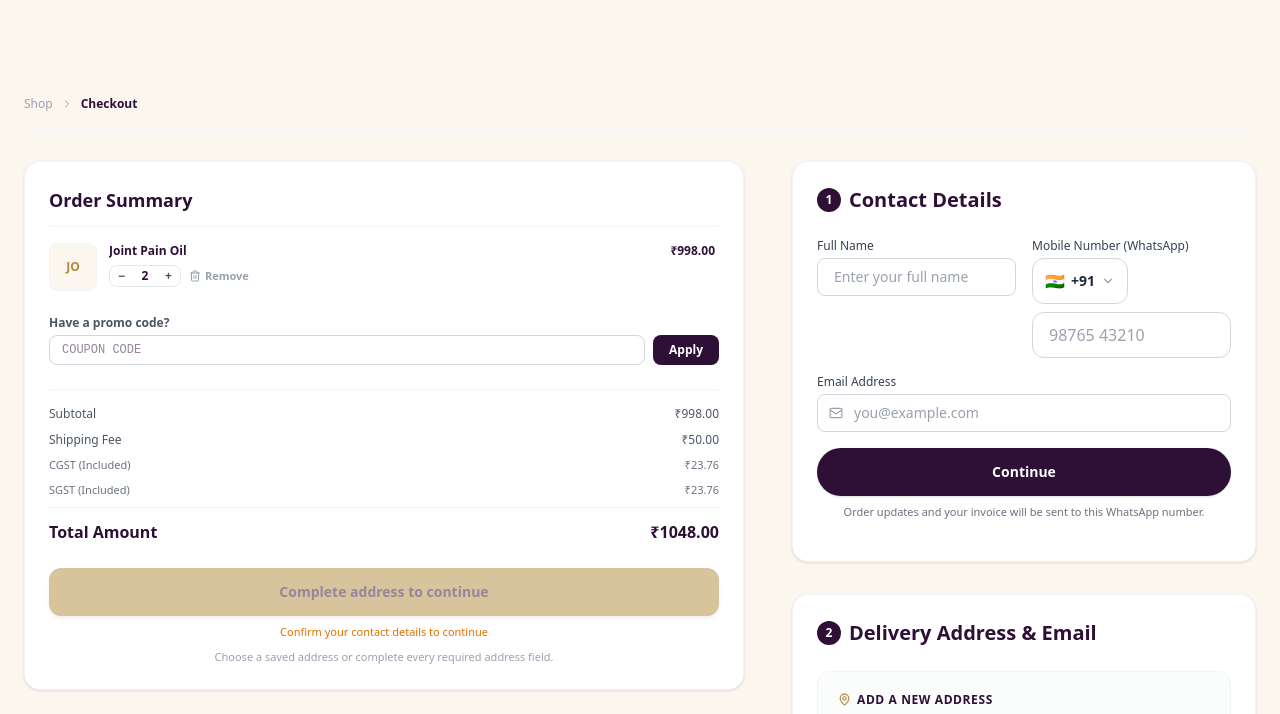
Test: checkout — contact step verifies the number with a WhatsApp OTP › shows the friendly connect message on a transport failure (no response)
This screenshot has width=1280, height=714.
Expected: the button "Continue" is shown, [817,448,1231,496]
Type "Atharva Bhargava" into the field with placeholder "Enter your full name".
click(916, 277); type("Atharva Bhargava")  # box [817,258,1016,296]
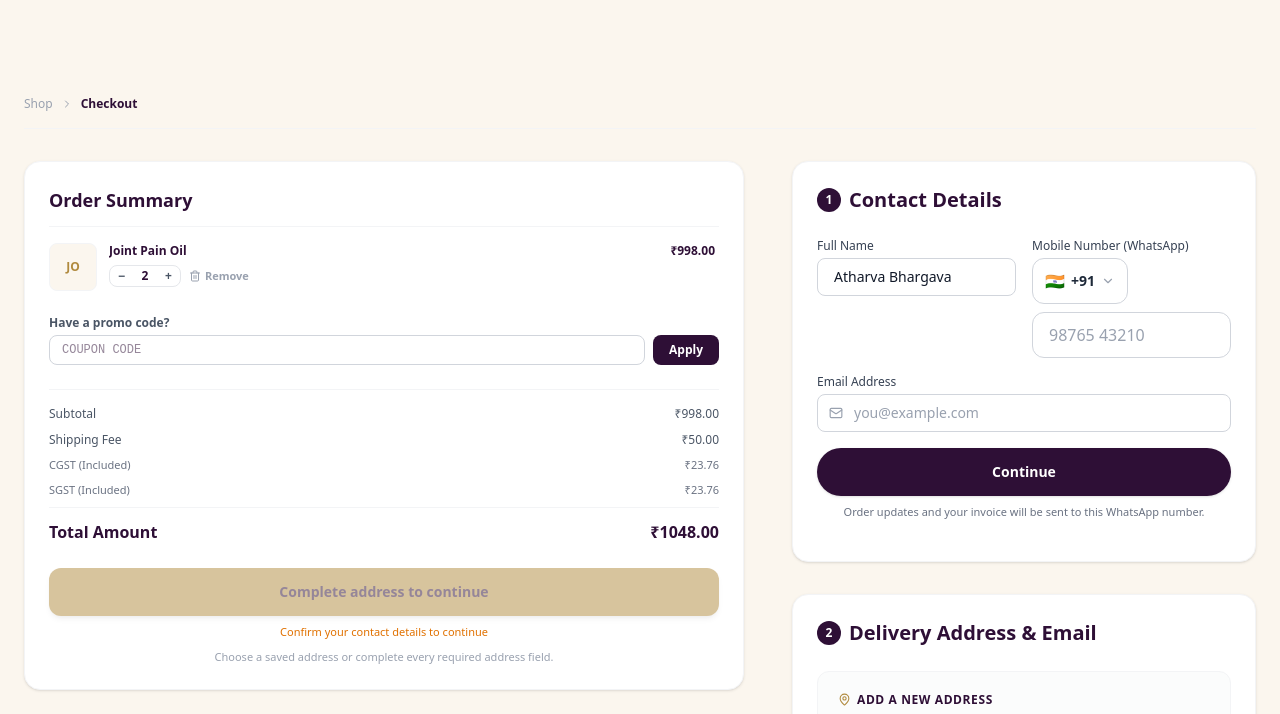
Type "9876543210" into the field with placeholder "98765 43210".
click(1132, 335); type("9876543210")  # box [1032,312,1231,358]
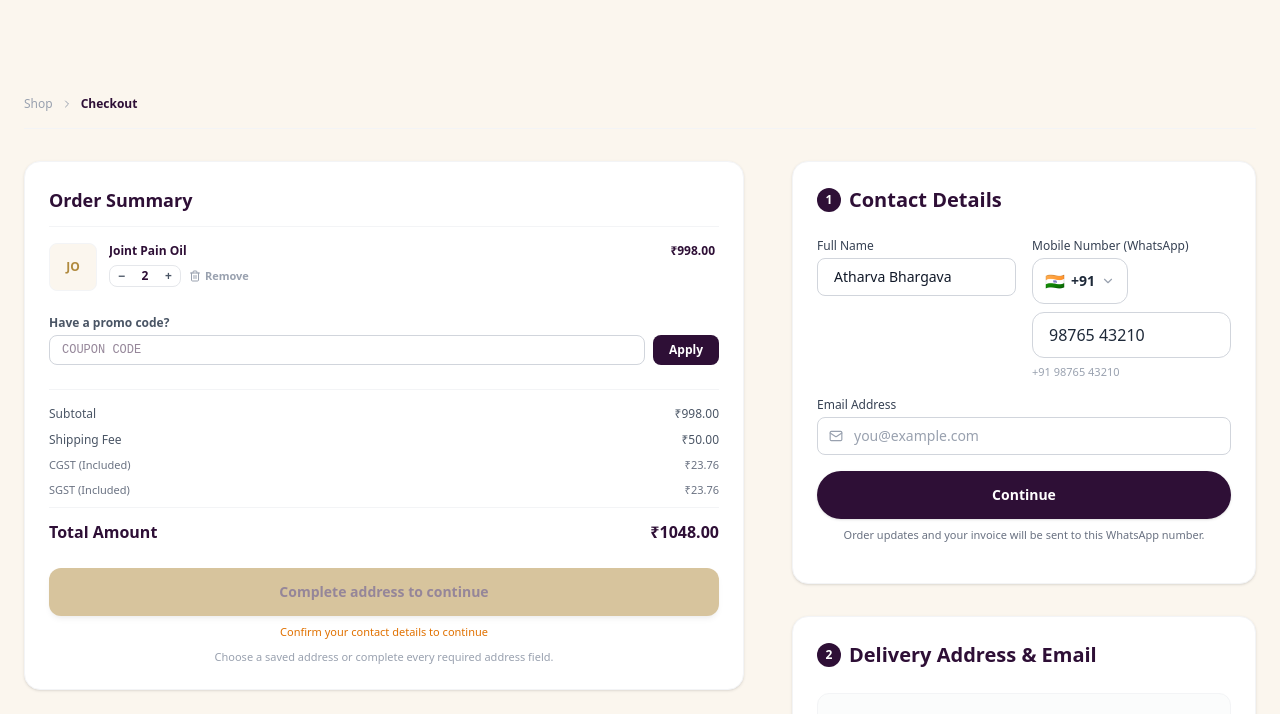
Type "atharva@example.com" into the field with id "checkout-contact-email".
click(1024, 436); type("atharva@example.com")  # box [817,416,1231,454]
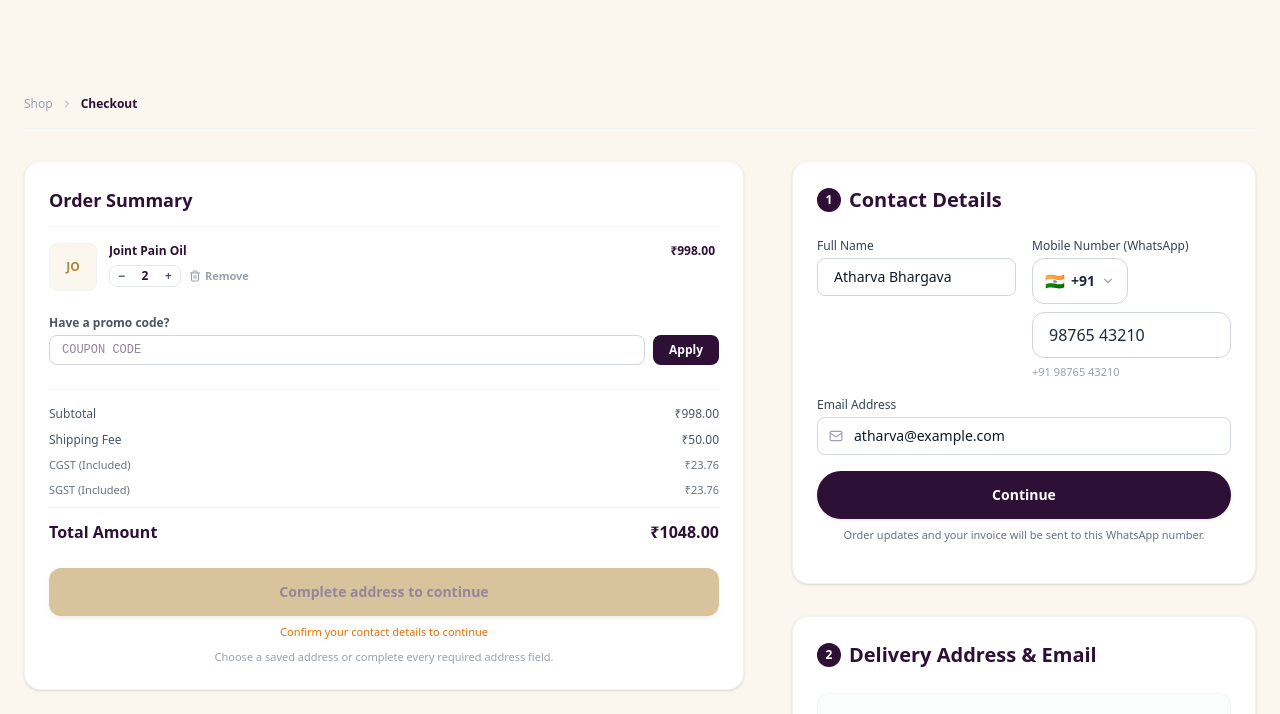
Click the button "Continue".
click(1024, 494)  # box [817,470,1231,518]
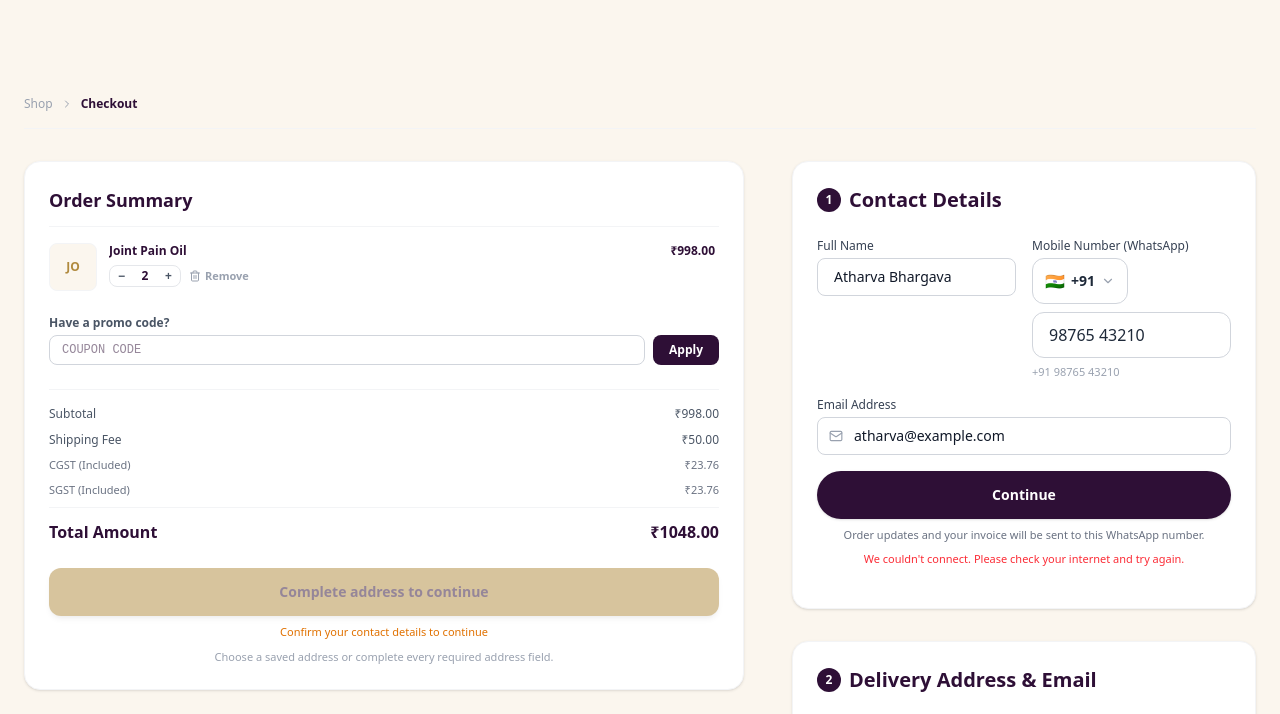
Result: the text "check your internet and try again" is shown at [864,551,1184,566]
